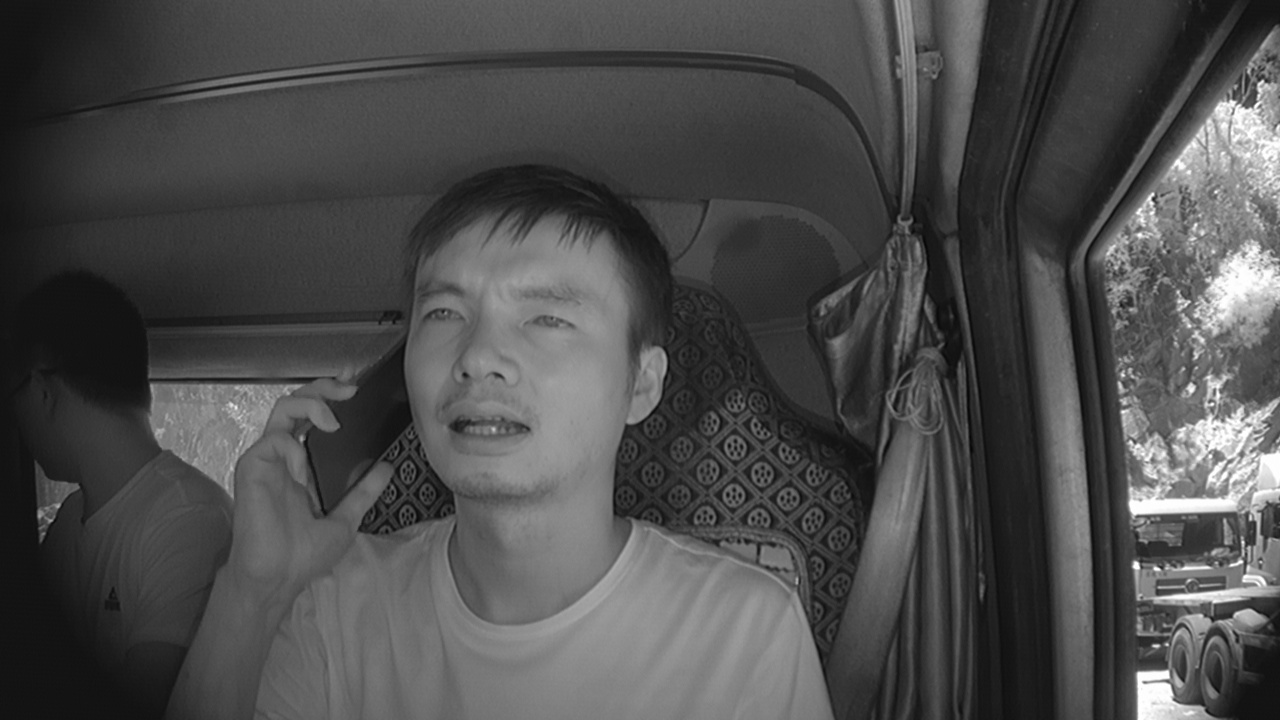hand: (233, 375, 386, 579)
